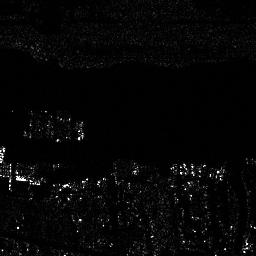ship: (169, 161, 226, 181)
